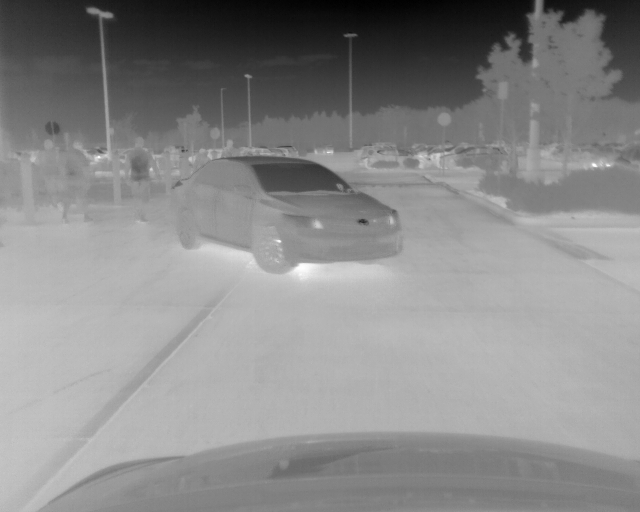car: (169, 157, 403, 275), (440, 146, 508, 169), (368, 150, 429, 168), (314, 145, 334, 154)
people: (125, 137, 159, 223), (62, 139, 96, 223), (35, 139, 59, 210), (179, 152, 192, 179), (197, 148, 210, 174)
